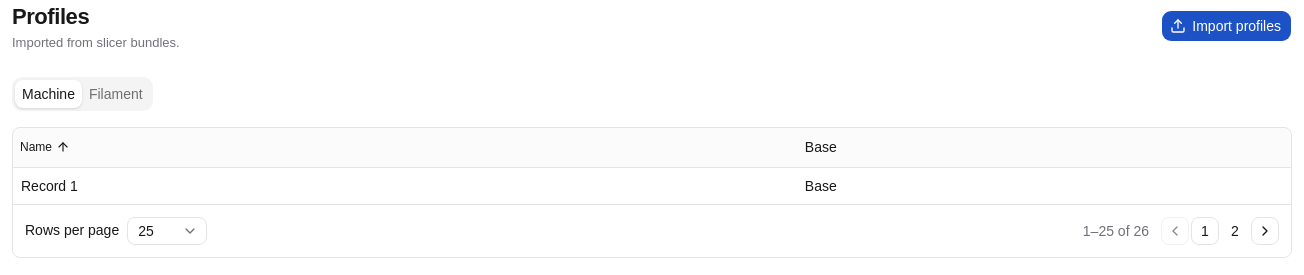
it: Server-paginated resource lists › keeps machine and filament page positions independent when switching profile tabs
Expected: the link "Record 1" is shown, [21,178,78,194]
Click the button named "Next table page" at (1265, 231), box [1251,217,1279,245]
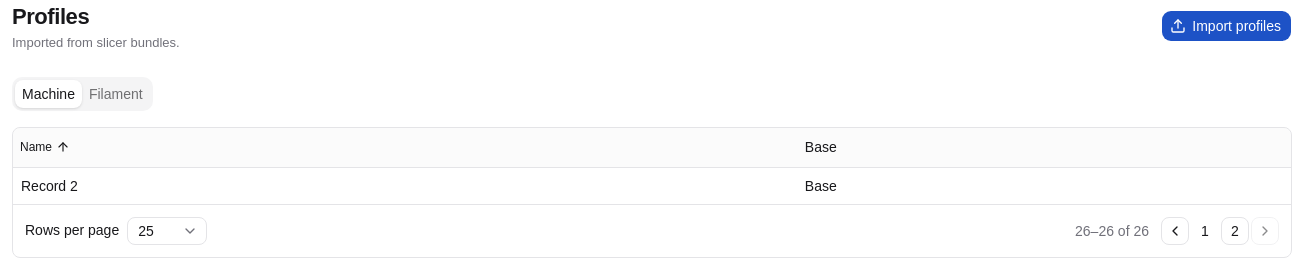
Expected: the link "Record 2" is shown, [21,178,78,194]
Click the tab "Filament" at (116, 94), box [82,80,150,108]
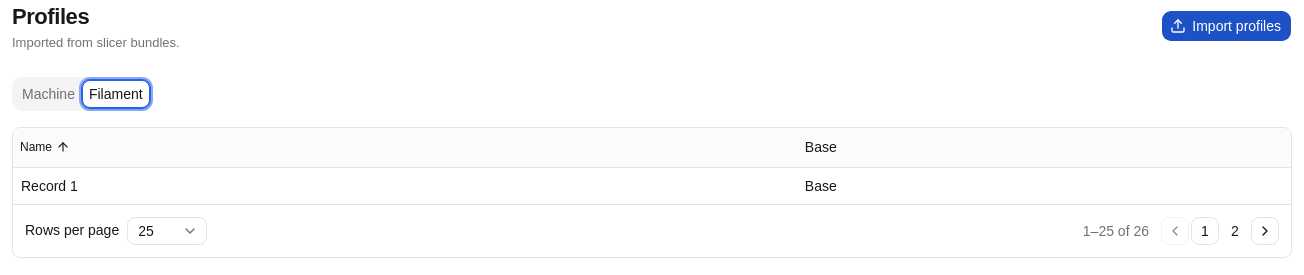
Expected: the link "Record 1" is shown, [21,178,78,194]
Click the tab "Machine" at (48, 94), box [15,80,82,108]
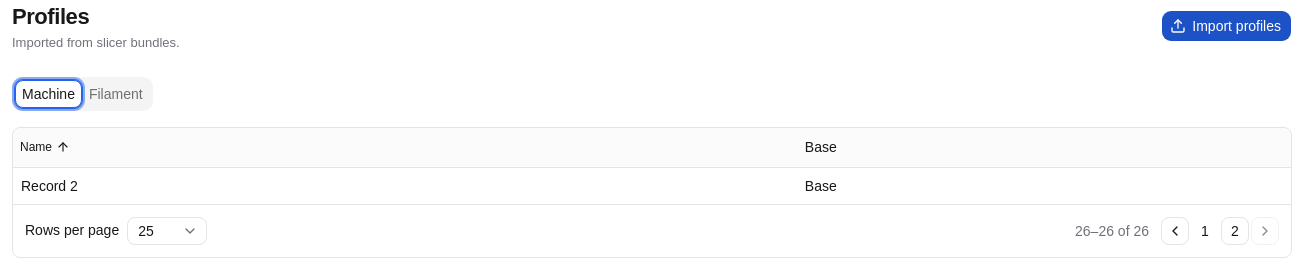
Expected: the link "Record 2" is shown, [21,178,78,194]
